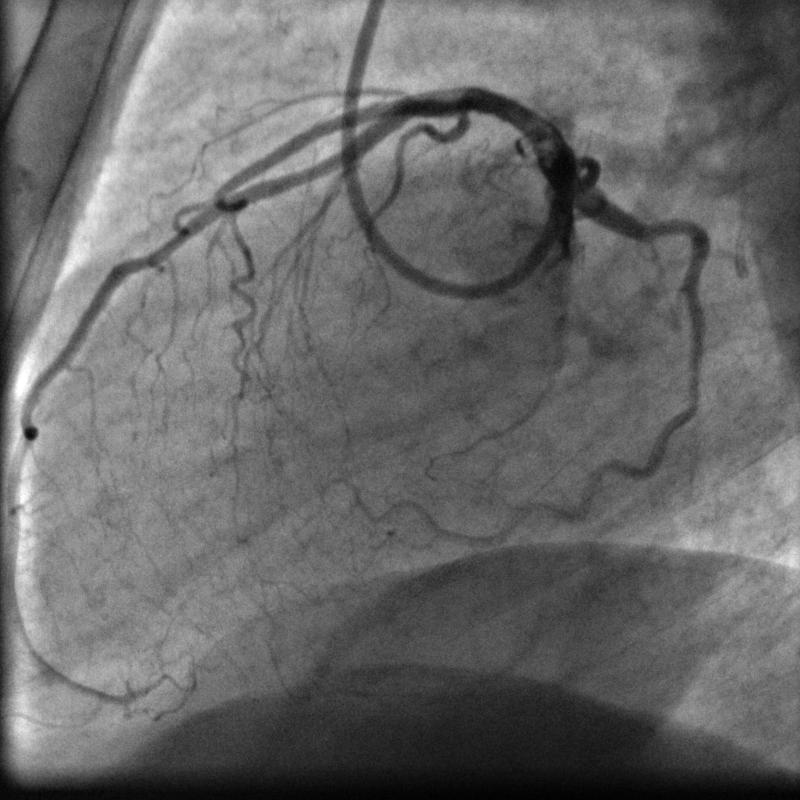Stenosis: (437, 83, 479, 127)
